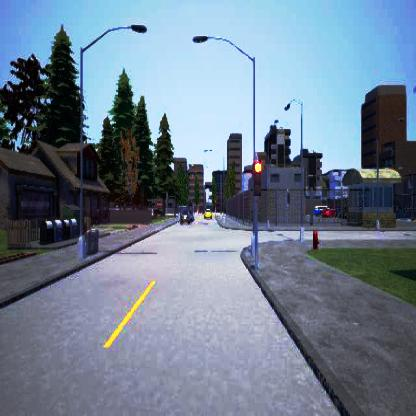vehicle: (179, 207, 193, 224), (202, 206, 210, 219)
